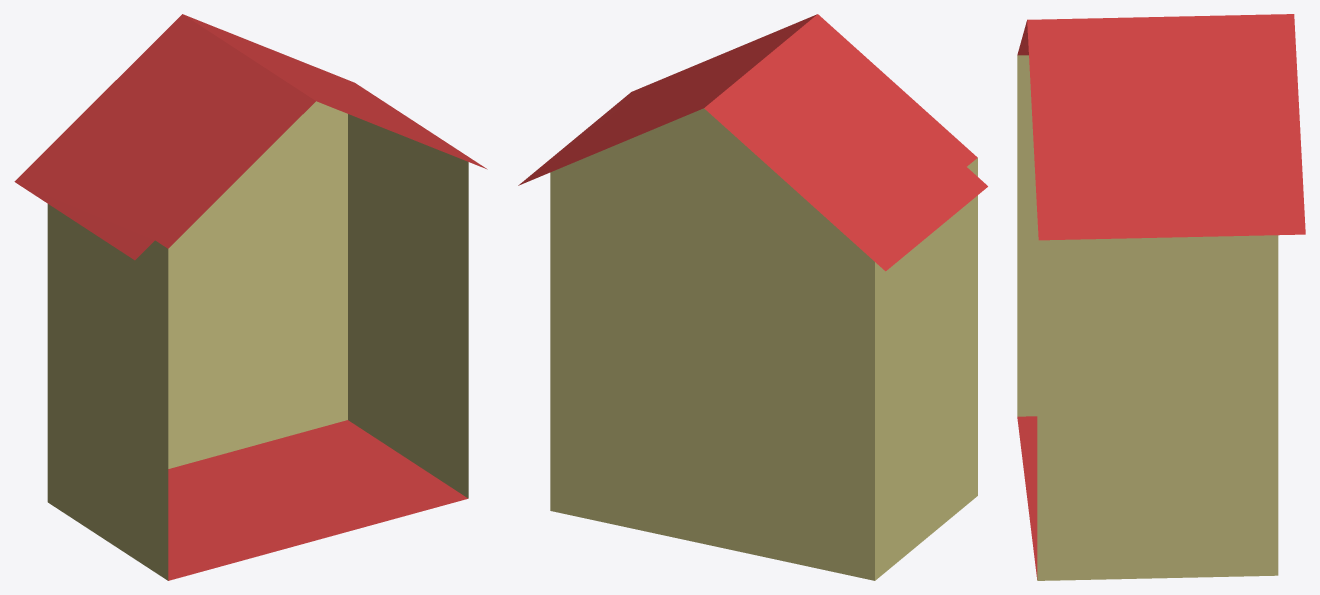
3 views of the same model, side by side, from view 1: azimuth 30°, elevation 25°; view 2: azimuth 150°, elevation 25°; view 3: azimuth 270°, elevation 25° (orthographic). The views are drawn at different scales.
Size of the model in its own units: 8.71 by 5.53 by 10.1.
